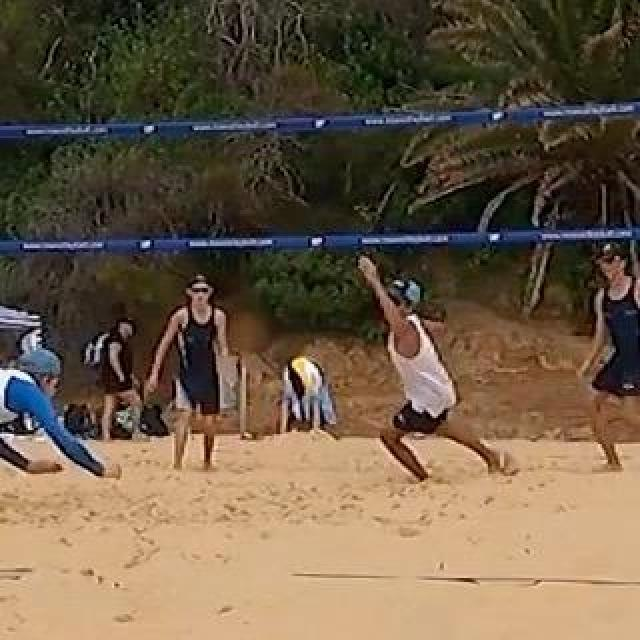volleyball: (287, 357, 323, 397)
